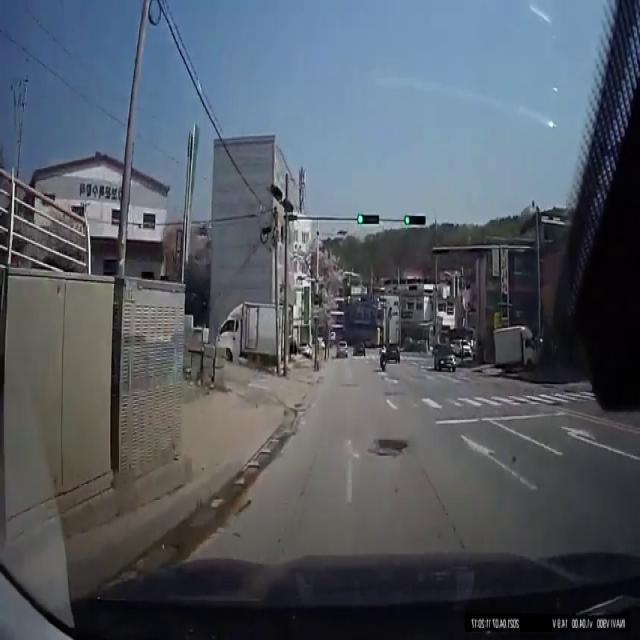pothole: (374, 435, 409, 453)
